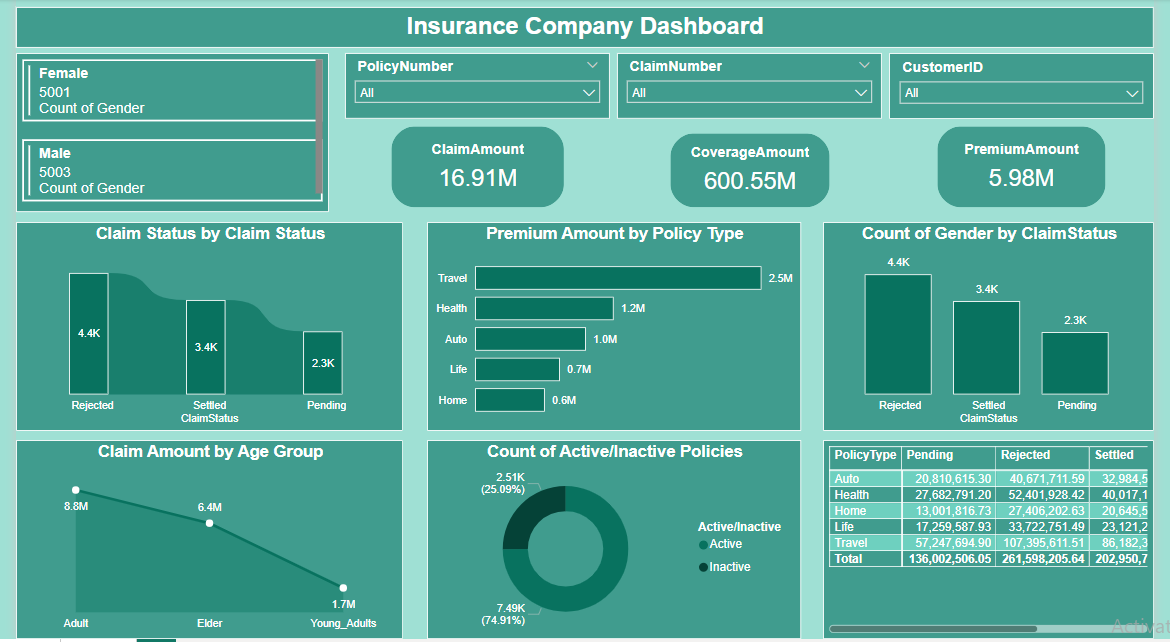

The dashboard page shown, as its layout file describes it:
{"tool":"powerbi","page":{"name":"Page 1","canvas":[1280,720],"ordinal":0},"visuals":[{"type":"slicer","fields":{"Values":["InsuranceData.PolicyNumber"]},"box":[370.1,60.8,298.1,74.2],"z":0},{"type":"slicer","fields":{"Values":["InsuranceData.ClaimNumber"]},"box":[676.1,60.8,298.1,74.2],"z":1000},{"type":"slicer","fields":{"Values":["InsuranceData.CustomerID"]},"box":[982.1,60.8,298.1,74.2],"z":2000},{"type":"textbox","box":[0,9,1280.2,46.1],"z":3000},{"type":"cardVisual","fields":{"Data":["Sum(InsuranceData.ClaimAmount)"]},"box":[417.4,138.4,204.8,101.2],"z":4000},{"type":"cardVisual","fields":{"Data":["Sum(InsuranceData.CoverageAmount)"]},"box":[731.2,146.2,189,93.4],"z":5000},{"type":"cardVisual","fields":{"Data":["Sum(InsuranceData.PremiumAmount)"]},"box":[1031.6,138.4,199.1,101.2],"z":6000},{"type":"multiRowCard","fields":{"Values":["InsuranceData.Gender","CountNonNull(InsuranceData.Gender)"]},"box":[0,60.8,352.1,178.9],"z":7000},{"type":"ribbonChart","title":"Claim Status by Claim Status","fields":{"Category":["InsuranceData.ClaimStatus"],"Y":["CountNonNull(InsuranceData.ClaimStatus)"]},"box":[0,250.9,435.4,235.1],"z":8000},{"type":"clusteredBarChart","title":"Premium Amount by Policy Type","fields":{"Category":["InsuranceData.PolicyType"],"Y":["Sum(InsuranceData.PremiumAmount)"]},"box":[462.4,250.9,420.8,235.1],"z":9000},{"type":"lineChart","title":"Claim Amount by Age Group","fields":{"Category":["InsuranceData.Age Group"],"Y":["Sum(InsuranceData.ClaimAmount)"]},"box":[0,496.1,435.4,223.9],"z":10000},{"type":"donutChart","title":"Count of Active/Inactive Policies","fields":{"Y":["CountNonNull(InsuranceData.Active/Inactive)"],"Category":["InsuranceData.Active/Inactive"]},"box":[462.4,496.1,420.8,223.9],"z":11000},{"type":"pivotTable","fields":{"Values":["Sum(InsuranceData.CoverageAmount)"],"Rows":["InsuranceData.PolicyType"],"Columns":["InsuranceData.ClaimStatus"]},"box":[907.9,496.1,372.4,223.9],"z":12000},{"type":"columnChart","fields":{"Category":["InsuranceData.ClaimStatus"],"Y":["CountNonNull(InsuranceData.Gender)"]},"box":[907.9,250.9,372.4,235.1],"z":13000}]}

Visuals, with their boxes in screenshot pixels (x1, y1, x2, y2), scaled from the page's 1280x720 canvas onto the 1170x642 screenshot:
slicer - InsuranceData.PolicyNumber: bbox(338, 54, 611, 120)
slicer - InsuranceData.ClaimNumber: bbox(618, 54, 890, 120)
slicer - InsuranceData.CustomerID: bbox(898, 54, 1169, 120)
textbox: bbox(0, 8, 1169, 49)
cardVisual - Sum(InsuranceData.ClaimAmount): bbox(382, 123, 569, 214)
cardVisual - Sum(InsuranceData.CoverageAmount): bbox(668, 130, 841, 214)
cardVisual - Sum(InsuranceData.PremiumAmount): bbox(943, 123, 1125, 214)
multiRowCard - InsuranceData.Gender x CountNonNull(InsuranceData.Gender): bbox(0, 54, 322, 214)
"Claim Status by Claim Status" ribbonChart: bbox(0, 224, 398, 433)
"Premium Amount by Policy Type" clusteredBarChart: bbox(423, 224, 807, 433)
"Claim Amount by Age Group" lineChart: bbox(0, 442, 398, 641)
"Count of Active/Inactive Policies" donutChart: bbox(423, 442, 807, 641)
pivotTable - Sum(InsuranceData.CoverageAmount) x InsuranceData.PolicyType: bbox(830, 442, 1169, 641)
columnChart - InsuranceData.ClaimStatus x CountNonNull(InsuranceData.Gender): bbox(830, 224, 1169, 433)
